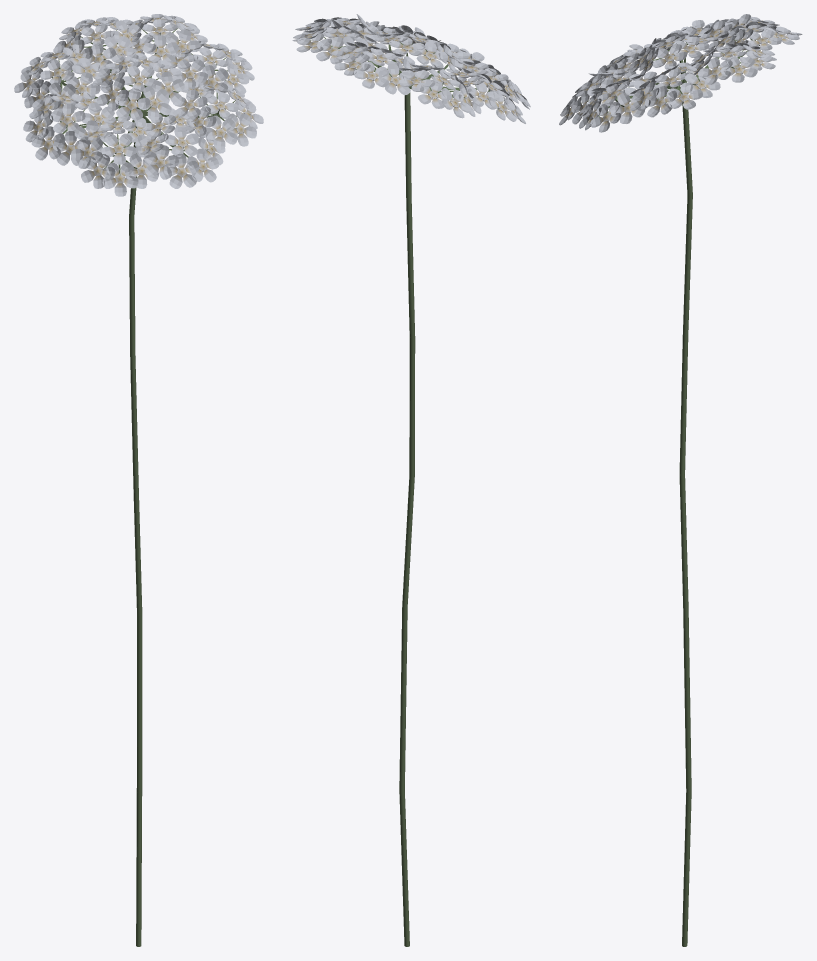
Rendered from flower_07.glb.
3 views of the same model, side by side, from view 1: azimuth 30°, elevation 25°; view 2: azimuth 150°, elevation 25°; view 3: azimuth 270°, elevation 25° (orthographic). The views are drawn at different scales.
Parts seen in each view (by area): view 1: stem.030; view 2: stem.030; view 3: stem.030.
Part boxes in pixels (box(x1,y1,x2,y2)): stem.030: box(129, 97, 142, 946); stem.030: box(399, 53, 415, 946); stem.030: box(679, 58, 692, 946).
Size of the model in its own units: 0.0645 by 0.2585 by 0.0619.
